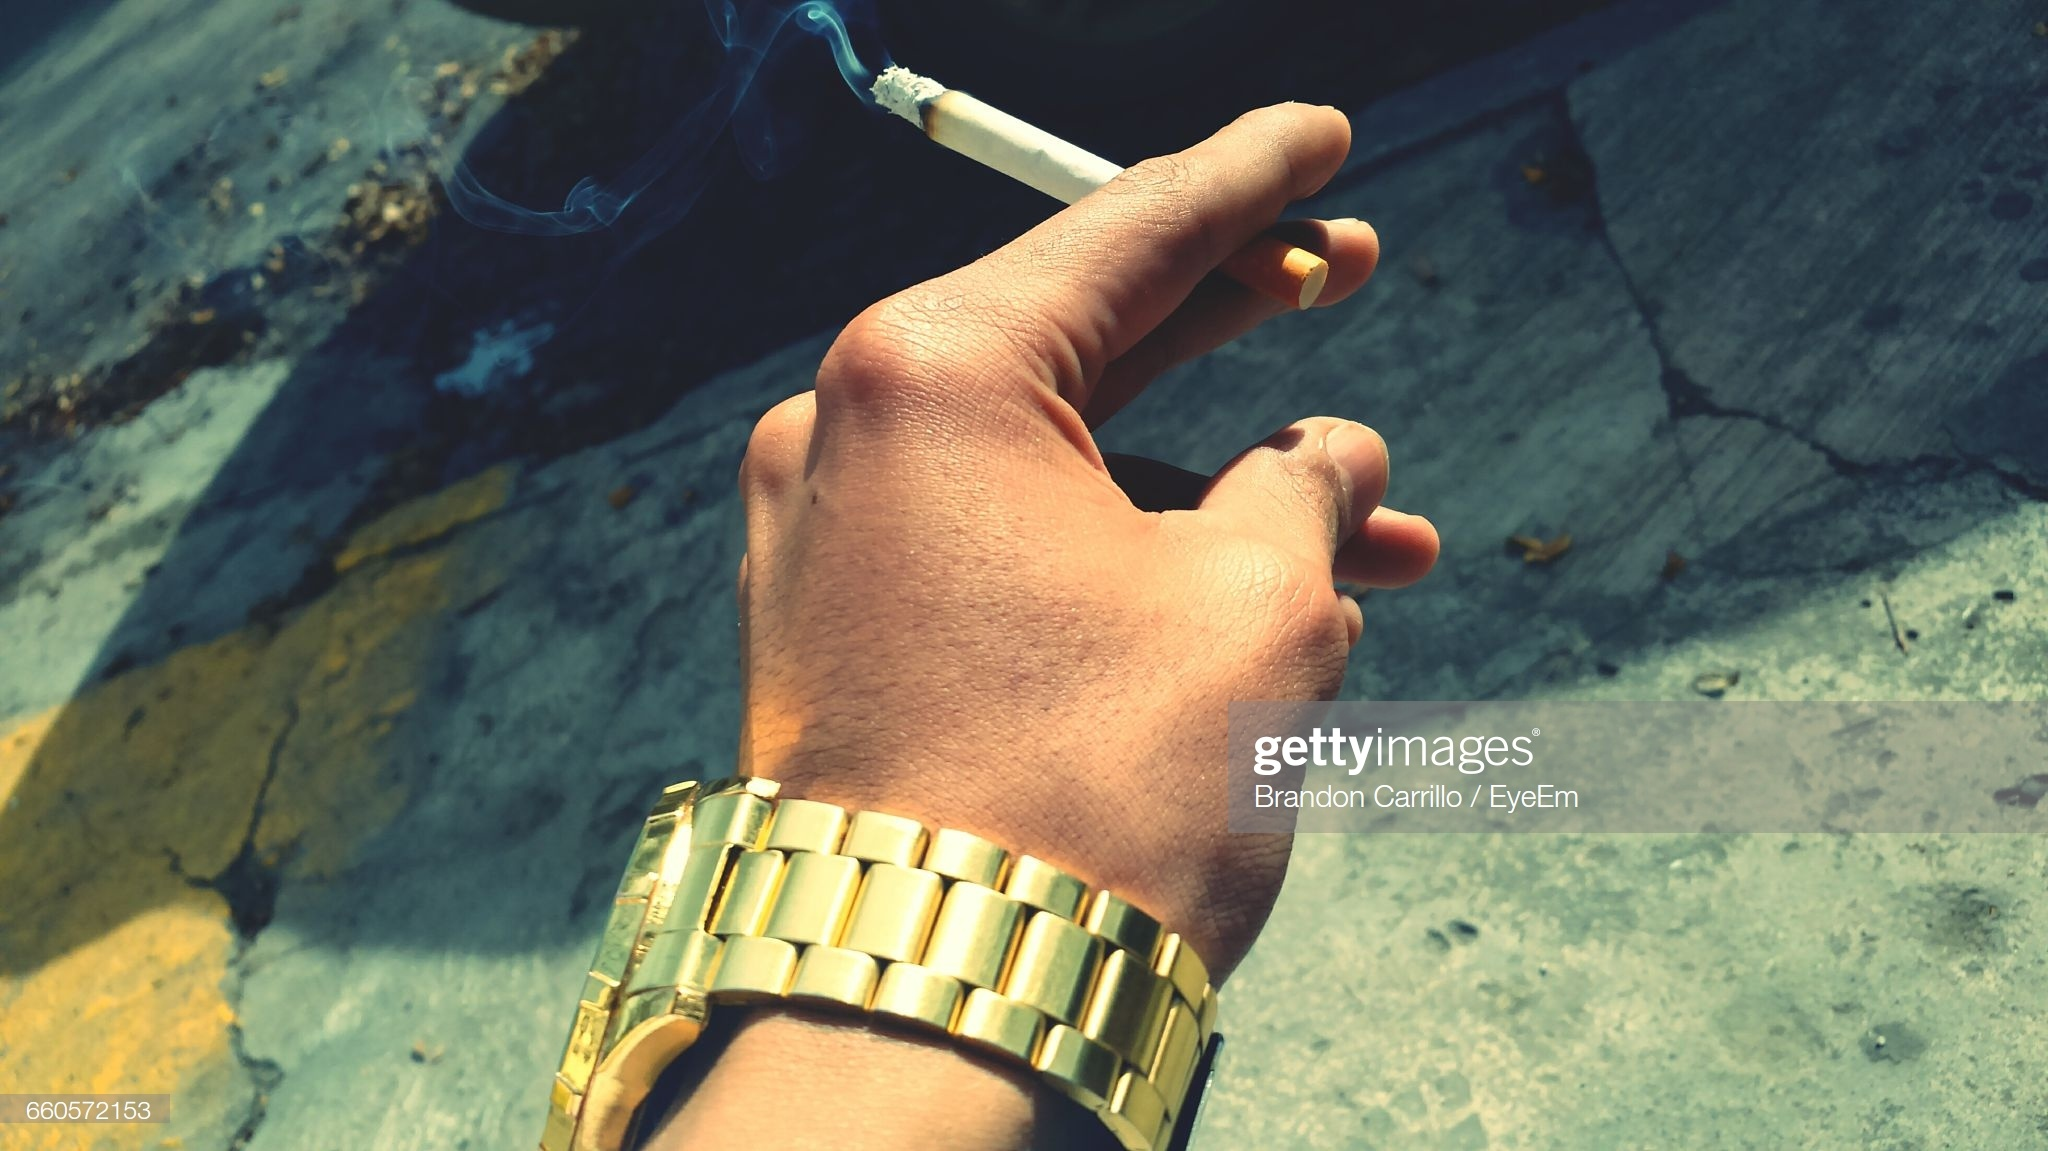sigaretta: (852, 80, 1362, 303)
